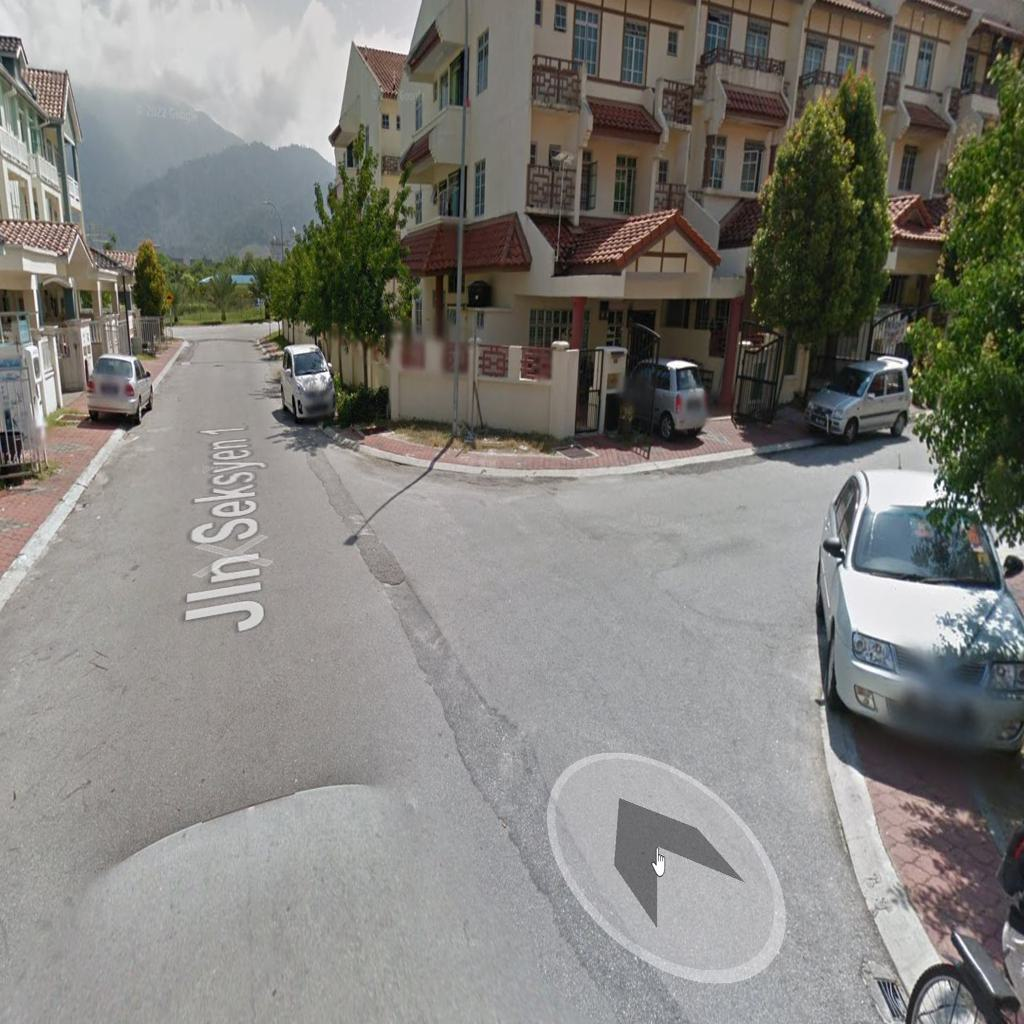Junction: (380, 398, 995, 852)
